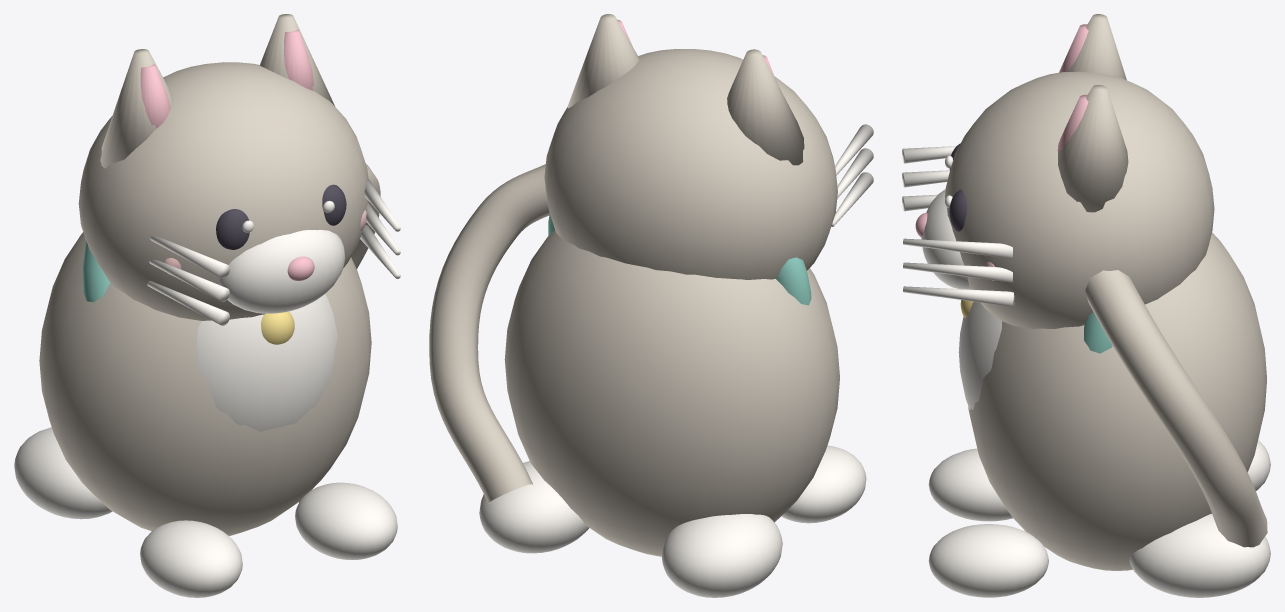
Rendered from cat.glb.
3 renders of one model, left to right at view 1: azimuth 30°, elevation 25°; view 2: azimuth 150°, elevation 25°; view 3: azimuth 270°, elevation 25°, orthographic.
Visible parts, largest first — view 1: Cat; view 2: Cat; view 3: Cat.
Boxes of the visible parts, <box> form: Cat: <box>14,14,400,597</box>; Cat: <box>429,14,873,597</box>; Cat: <box>902,14,1270,597</box>.
Size of the model in its own units: 1.07 by 1.48 by 0.9809.
